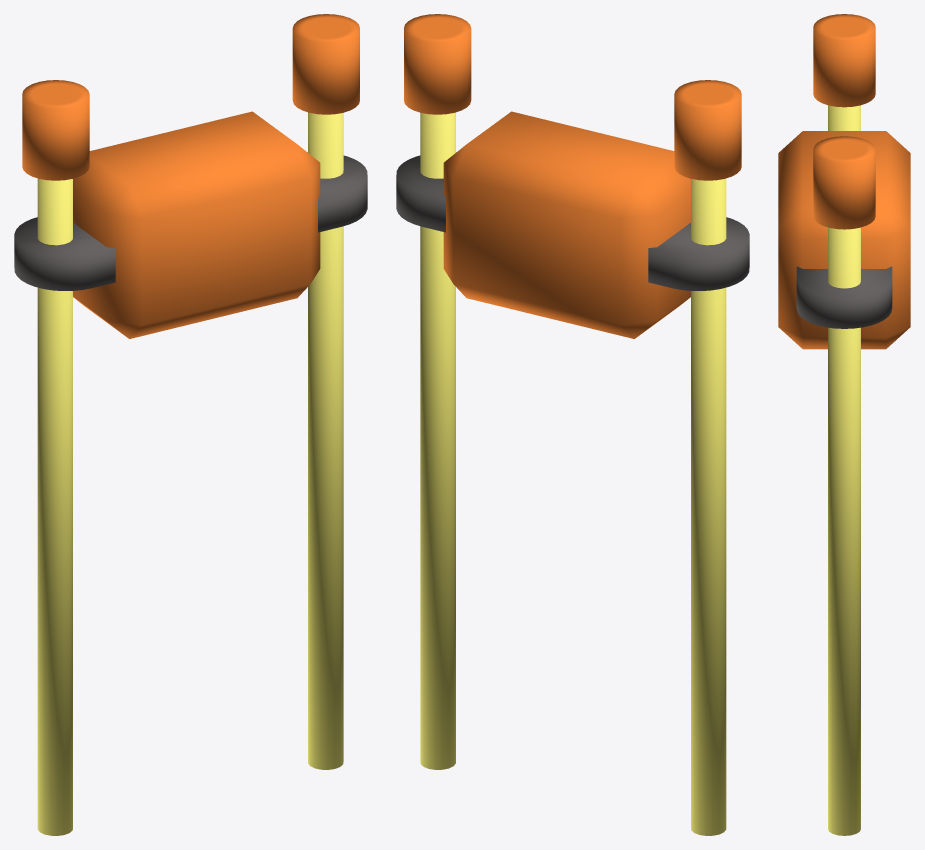
Rendered from Obstacle 24 V3.fbx.
The picture shows the model from 3 angles, left to right: view 1: azimuth 30°, elevation 25°; view 2: azimuth 150°, elevation 25°; view 3: azimuth 270°, elevation 25°; orthographic projection. The views are drawn at different scales.
Visible parts, largest first — view 1: O24 Part 2, O24 Part 1; view 2: O24 Part 2, O24 Part 1; view 3: O24 Part 2, O24 Part 1.
Boxes of the visible parts, x1,y1,x2,y2 form: O24 Part 2: (22, 14, 359, 835); O24 Part 1: (14, 111, 367, 338); O24 Part 2: (404, 14, 741, 835); O24 Part 1: (396, 111, 749, 338); O24 Part 2: (813, 14, 875, 835); O24 Part 1: (778, 131, 910, 349).
Bounding box in the file's own units: 146 × 302 × 53.16.
1 material, 1 textured.
